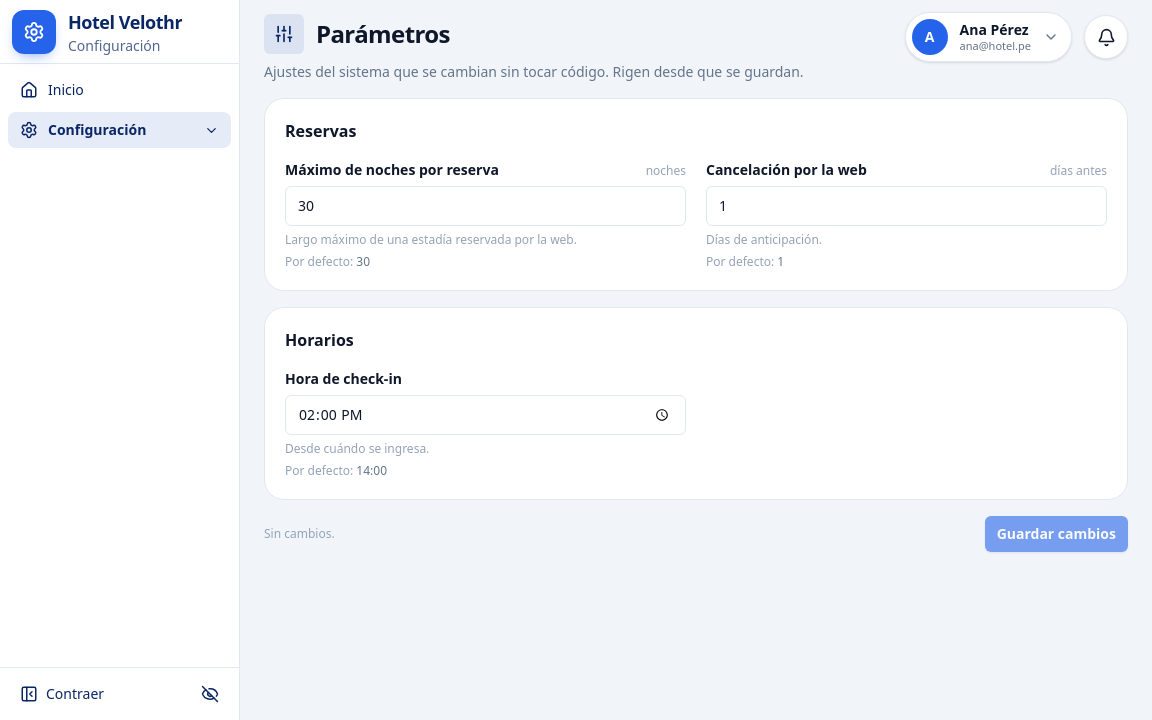
Test: Parámetros › un valor inválido avisa y bloquea el guardado
Replace the text in the field labelled "Máximo de noches por reserva" with "9999": (486, 206) [298,196,673,216]
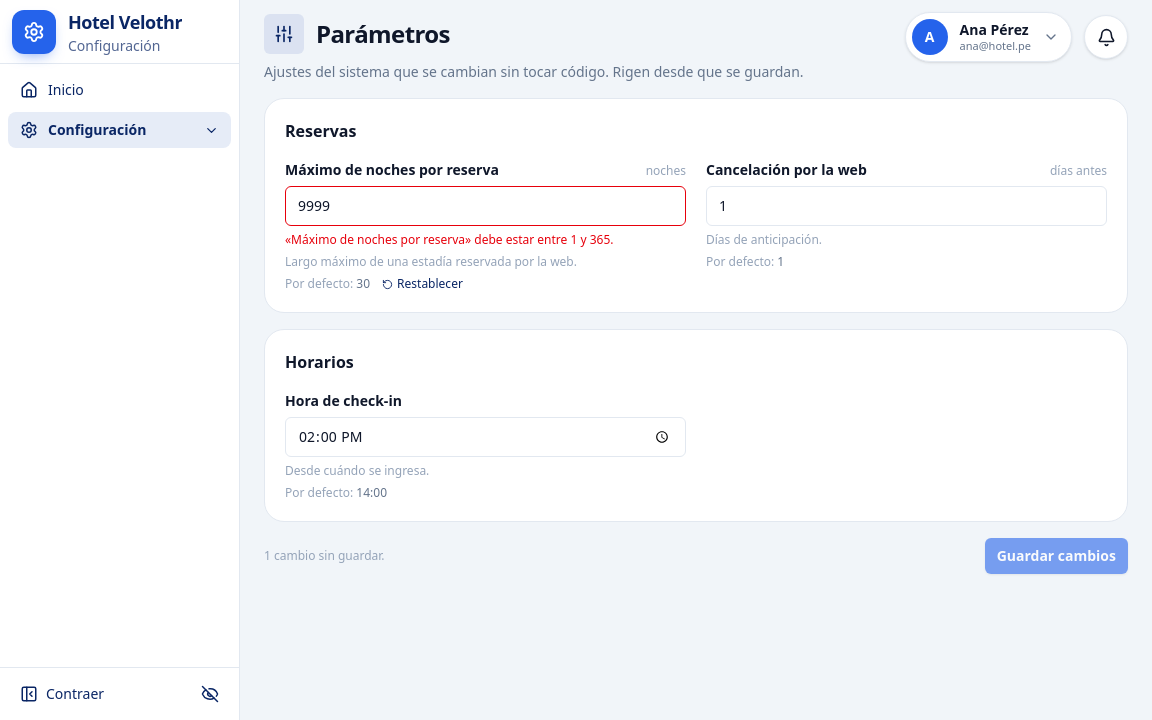
Check: the button "Guardar cambios" is disabled, box [985,538,1128,574]
Check: the text "«Máximo de noches por reserva» debe estar entre 1 y 365." is shown, box [285,231,614,248]
